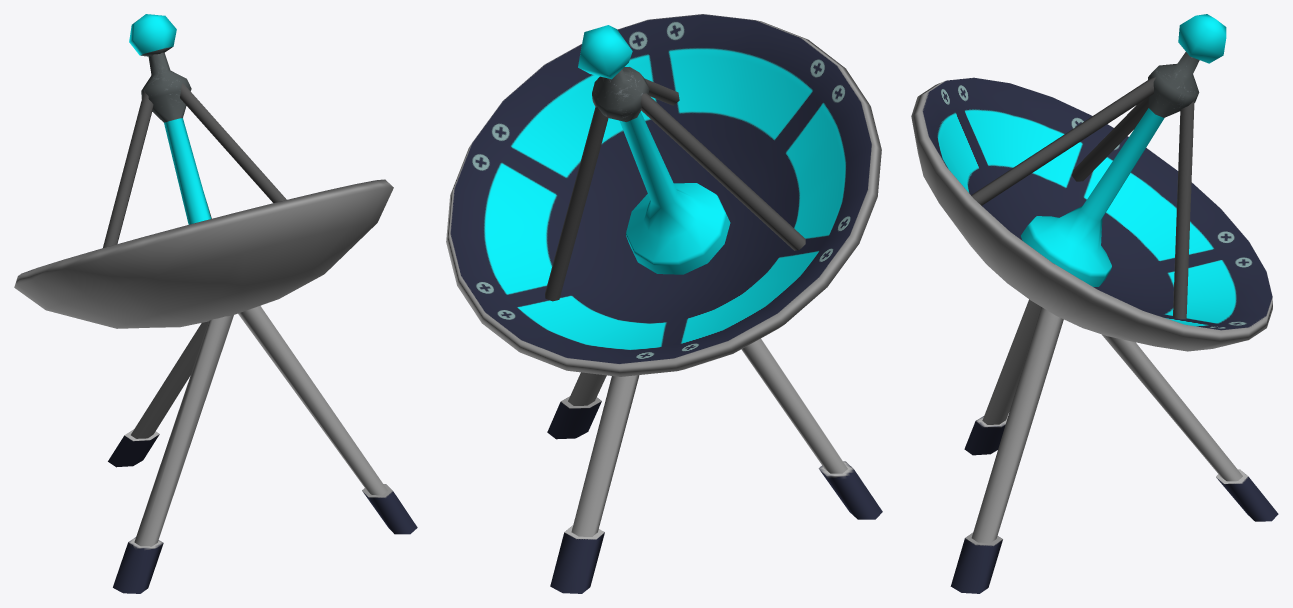
Rendered from SM_Antenna_02.fbx.
The picture shows the model from 3 angles, left to right: view 1: azimuth 30°, elevation 25°; view 2: azimuth 150°, elevation 25°; view 3: azimuth 270°, elevation 25°; orthographic projection. The views are drawn at different scales.
Visible parts, largest first — view 1: SM_Antenna_02; view 2: SM_Antenna_02; view 3: SM_Antenna_02.
Boxes of the visible parts, x1,y1,x2,y2 form: SM_Antenna_02: (14, 14, 417, 593); SM_Antenna_02: (446, 14, 882, 593); SM_Antenna_02: (911, 14, 1278, 593).
Bounding box in the file's own units: 111 × 97.53 × 146.
Materials: 1 (1 with a texture image).
